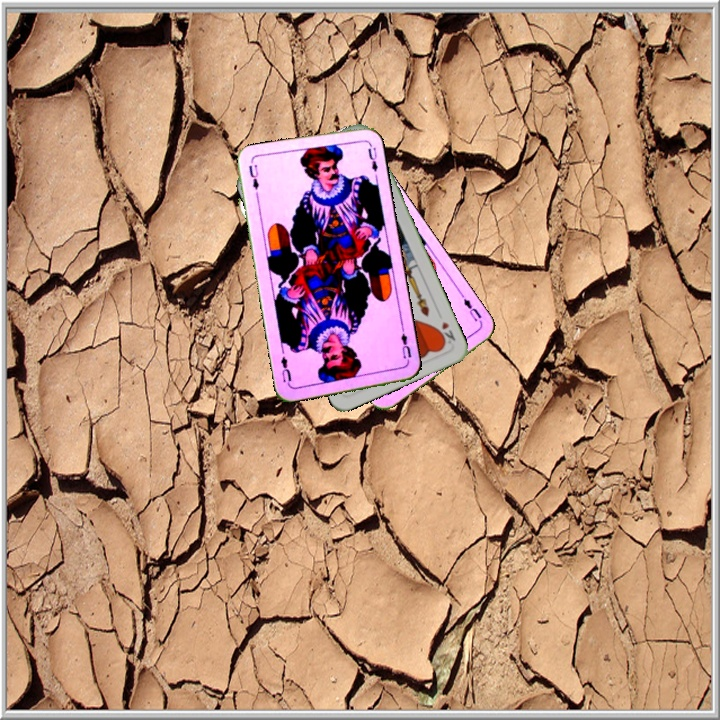EU: (457, 290, 484, 324), (397, 325, 414, 366), (245, 160, 261, 192)
HK: (434, 317, 458, 347)
